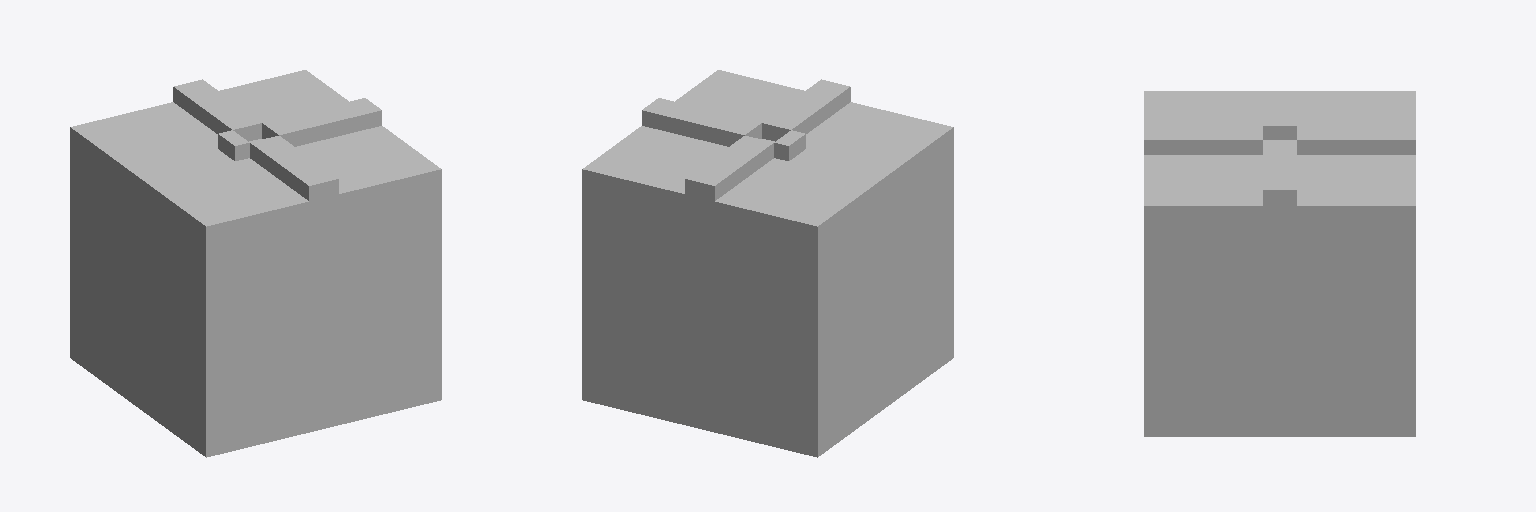
File: Floor 3 Connections.obj
The picture shows the model from 3 angles: view 1: azimuth 30°, elevation 25°; view 2: azimuth 150°, elevation 25°; view 3: azimuth 270°, elevation 25°; orthographic projection.
Visible parts, largest first — view 1: object 1; view 2: object 1; view 3: object 1.
Boxes of the visible parts, x1,y1,x2,y2 form: object 1: [70, 70, 441, 457]; object 1: [582, 70, 953, 457]; object 1: [1144, 91, 1415, 436].
Bounding box in the file's own units: 1.6 × 1.6 × 1.6.